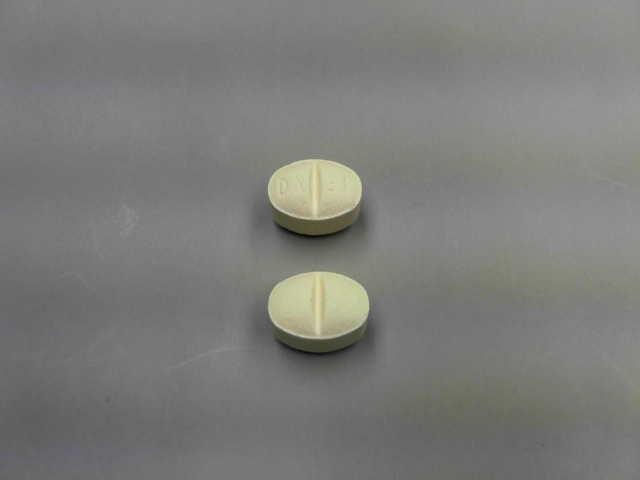D: (276, 175, 292, 200)
X: (293, 175, 307, 194)
|: (307, 266, 328, 345), (306, 151, 324, 226)
